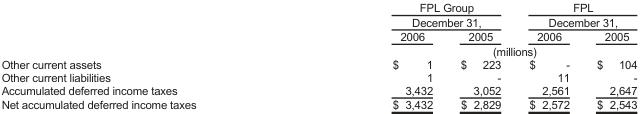table: (0, 0, 636, 111)
table column: (0, 0, 293, 111), (293, 0, 446, 111), (446, 0, 514, 111), (514, 0, 582, 111), (582, 0, 636, 111)
table column header: (0, 0, 636, 57)
table row: (0, 0, 636, 29), (0, 29, 636, 43), (0, 43, 636, 57), (0, 83, 636, 97), (0, 97, 636, 111), (0, 57, 636, 70), (0, 70, 636, 83)
table spanning cell: (293, 0, 514, 29), (293, 43, 636, 57), (514, 0, 636, 29)
